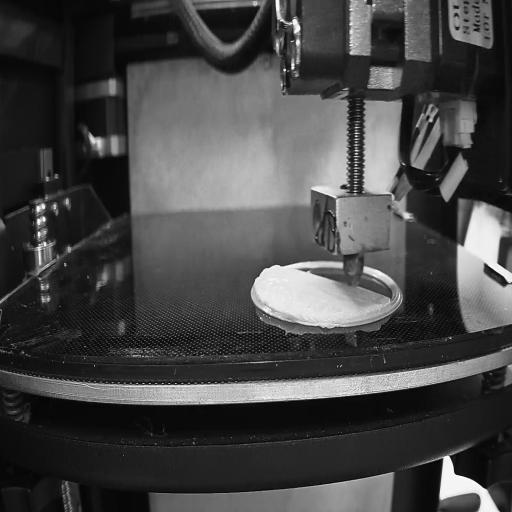over_extrusion: (252, 260, 280, 316)
